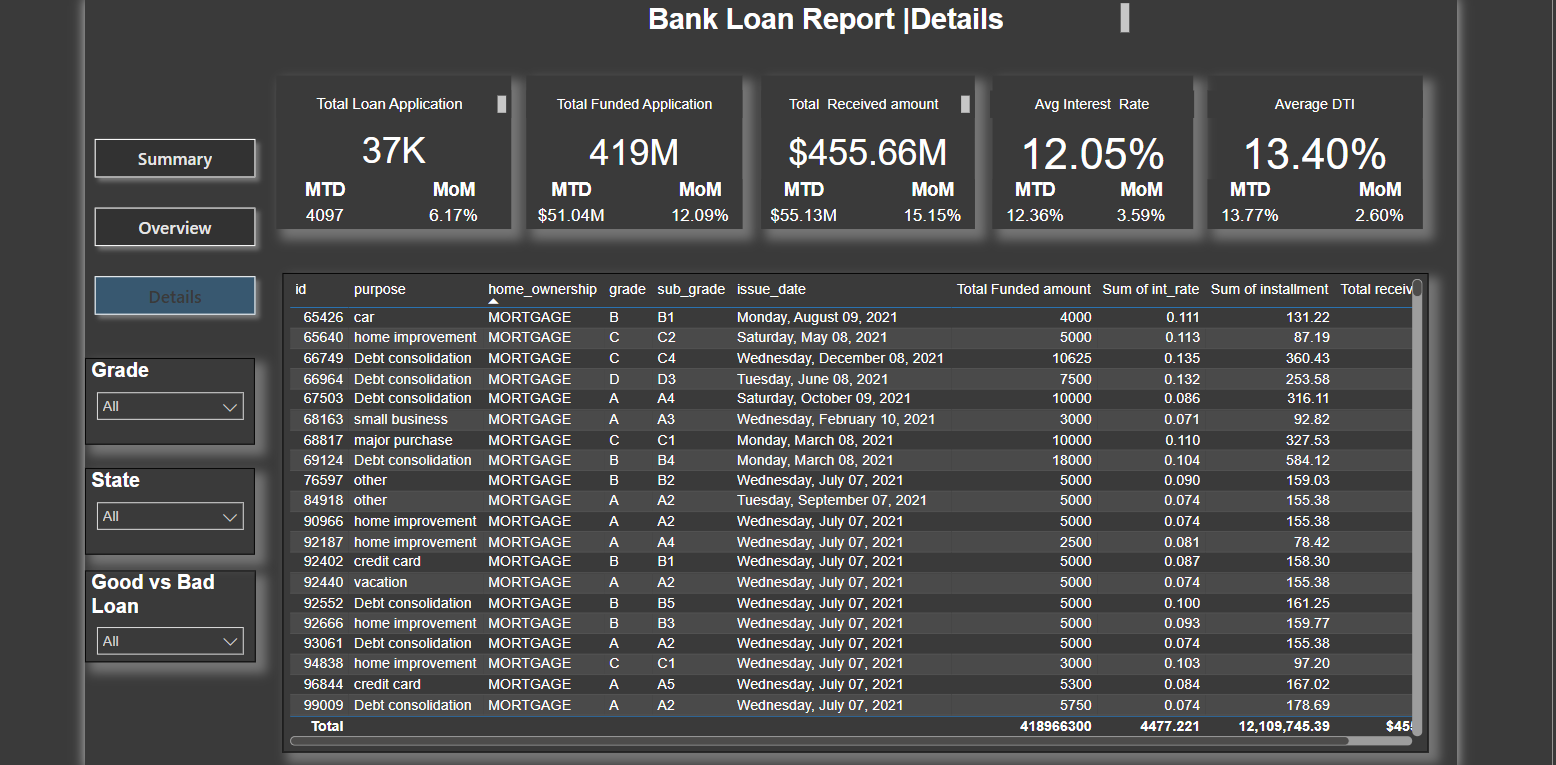

The dashboard page shown, as its layout file describes it:
{"tool":"powerbi","page":{"name":"Details","canvas":[1280,720],"ordinal":2},"visuals":[{"type":"card","fields":{"Values":["table_measures.Total Loan Amount"]},"box":[178.9,72.1,219.3,142.8],"z":0},{"type":"slicer","title":"Good vs Bad Loan","fields":{"Values":["financial_loan.Good vs bad loan"]},"box":[0,533.9,158.9,85.9],"z":6},{"type":"card","fields":{"Values":["Table Measures.Total Funded amount"]},"box":[411.2,72.1,202,142.8],"z":9},{"type":"card","fields":{"Values":["Table Measures.Total receive amount"]},"box":[630.5,72.1,199.1,142.8],"z":10},{"type":"card","fields":{"Values":["Table Measures.avg_dti"]},"box":[1047.4,72.1,200.5,142.8],"z":11},{"type":"card","fields":{"Values":["Table Measures.Avg_interest_rate"]},"box":[846.9,72.1,187.6,142.8],"z":12},{"type":"slicer","title":"State","fields":{"Values":["financial_loan.address_state"]},"box":[0,438.6,158.7,80.8],"z":13},{"type":"slicer","title":"Grade","fields":{"Values":["financial_loan.grade"]},"box":[0,336.2,158.7,80.8],"z":14},{"type":"textbox","box":[411.4,0,567,38.6],"z":15},{"type":"pageNavigator","box":[0,122.6,168.8,183.2],"z":16},{"type":"card","title":"MTD","fields":{"Values":["Table Measures.MTD_loan_appl"]},"box":[184.7,168.8,79.4,46.2],"z":17},{"type":"card","title":"MoM","fields":{"Values":["Table Measures.MOM_loan_appl"]},"box":[304.4,168.8,79.4,46.2],"z":18},{"type":"card","title":"MTD","fields":{"Values":["Table Measures.MTD_funded_amt"]},"box":[414.1,168.8,79.4,46.2],"z":19},{"type":"card","title":"MoM","fields":{"Values":["Table Measures.MoM_funded_amt"]},"box":[533.8,168.8,79.4,46.2],"z":20},{"type":"card","title":"MTD","fields":{"Values":["Table Measures.MTD receive amt"]},"box":[630.5,168.8,79.4,46.2],"z":21},{"type":"card","title":"MoM","fields":{"Values":["Table Measures.MoM_received_amt"]},"box":[750.2,168.8,79.4,46.2],"z":22},{"type":"card","title":"MTD","fields":{"Values":["Table Measures.MTD_int_rate"]},"box":[846.9,168.8,79.4,46.2],"z":23},{"type":"card","title":"MoM","fields":{"Values":["Table Measures.MoM_int_rate"]},"box":[945,168.8,79.4,46.2],"z":24},{"type":"card","title":"MTD","fields":{"Values":["Table Measures.MTD_avg_dti"]},"box":[1047.4,168.8,79.4,46.2],"z":25},{"type":"card","title":"MoM","fields":{"Values":["Table Measures.MoM_avg_dti"]},"box":[1168.6,168.8,79.4,46.2],"z":26},{"type":"textbox","box":[178.9,86.6,219.3,26],"z":27},{"type":"textbox","box":[411.2,86.6,202,26],"z":28},{"type":"textbox","box":[630.5,86.6,199.1,26],"z":29},{"type":"textbox","box":[844,86.6,190.4,26],"z":30},{"type":"textbox","box":[1047.4,86.6,200.5,26],"z":31},{"type":"tableEx","fields":{"Values":["financial_loan.id","financial_loan.purpose","financial_loan.home_ownership","financial_loan.grade","financial_loan.sub_grade","financial_loan.issue_date","Table Measures.Total Funded amount","Sum(financial_loan.int_rate)","Sum(financial_loan.installment)","Table Measures.Total receive amount"]},"box":[184.7,256.8,1069.1,447.3],"z":32}]}

Visuals, with their boxes on the page's 1280x720 design canvas (x1, y1, x2, y2). These are canvas units, not pixel positions in the 1556x765 screenshot, which may show the page scaled, cropped or inside an application window:
card - table_measures.Total Loan Amount: detection(179, 72, 398, 215)
"Good vs Bad Loan" slicer: detection(0, 534, 159, 620)
card - Table Measures.Total Funded amount: detection(411, 72, 613, 215)
card - Table Measures.Total receive amount: detection(630, 72, 830, 215)
card - Table Measures.avg_dti: detection(1047, 72, 1248, 215)
card - Table Measures.Avg_interest_rate: detection(847, 72, 1034, 215)
"State" slicer: detection(0, 439, 159, 519)
"Grade" slicer: detection(0, 336, 159, 417)
textbox: detection(411, 0, 978, 39)
pageNavigator: detection(0, 123, 169, 306)
"MTD" card: detection(185, 169, 264, 215)
"MoM" card: detection(304, 169, 384, 215)
"MTD" card: detection(414, 169, 494, 215)
"MoM" card: detection(534, 169, 613, 215)
"MTD" card: detection(630, 169, 710, 215)
"MoM" card: detection(750, 169, 830, 215)
"MTD" card: detection(847, 169, 926, 215)
"MoM" card: detection(945, 169, 1024, 215)
"MTD" card: detection(1047, 169, 1127, 215)
"MoM" card: detection(1169, 169, 1248, 215)
textbox: detection(179, 87, 398, 113)
textbox: detection(411, 87, 613, 113)
textbox: detection(630, 87, 830, 113)
textbox: detection(844, 87, 1034, 113)
textbox: detection(1047, 87, 1248, 113)
tableEx - financial_loan.id x financial_loan.purpose: detection(185, 257, 1254, 704)
